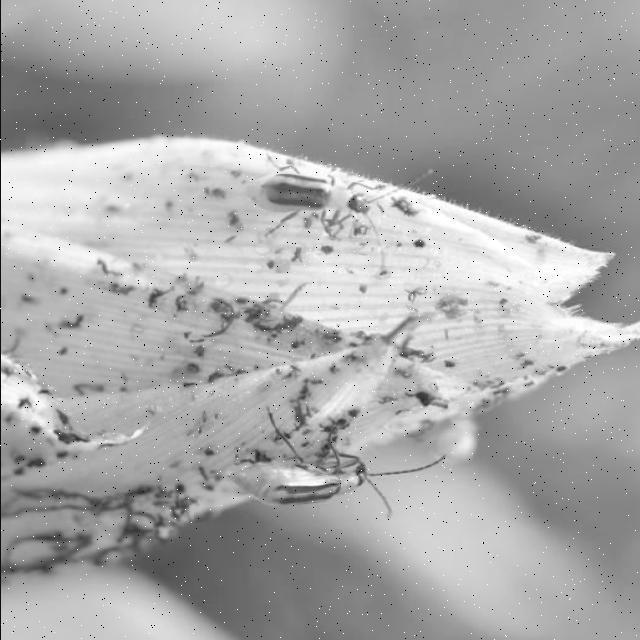trips: (210, 434, 407, 526), (244, 160, 398, 232)
